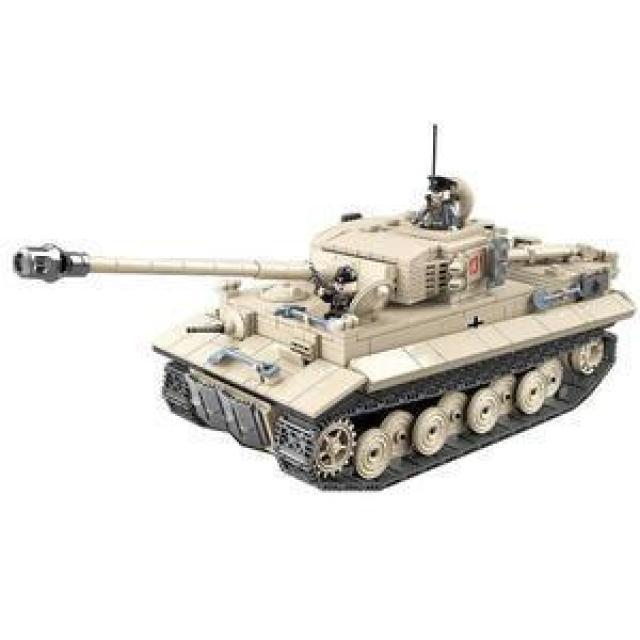MIL_MBT: (41, 123, 621, 466)
